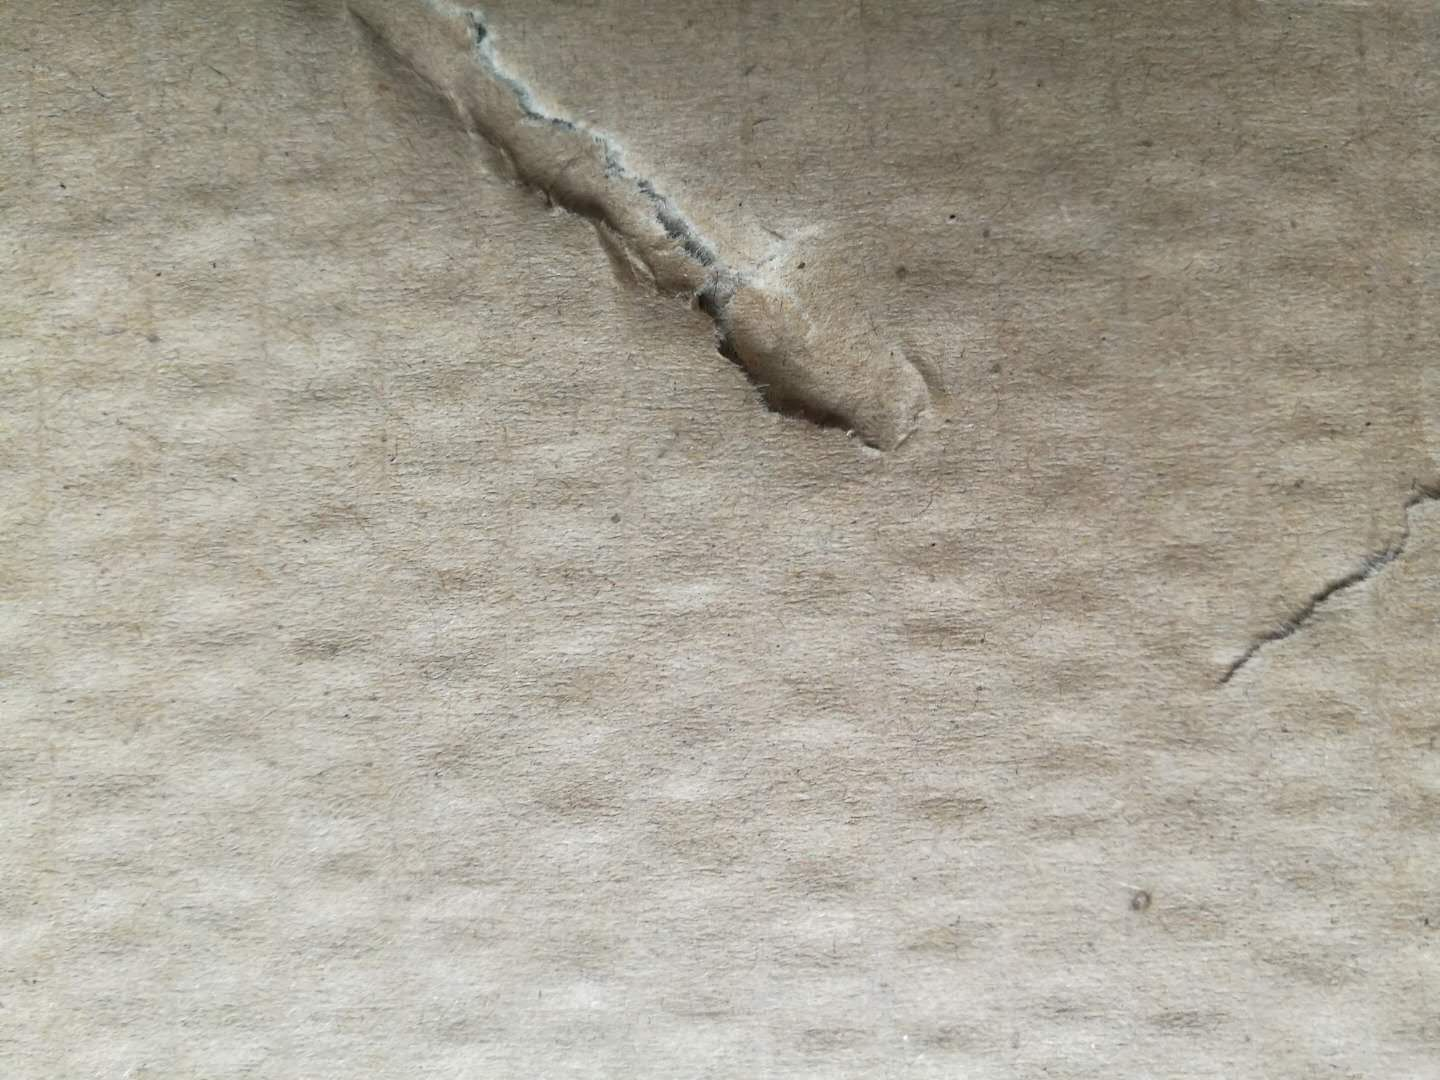defect: (306, 3, 1043, 545), (1178, 452, 1440, 700)
